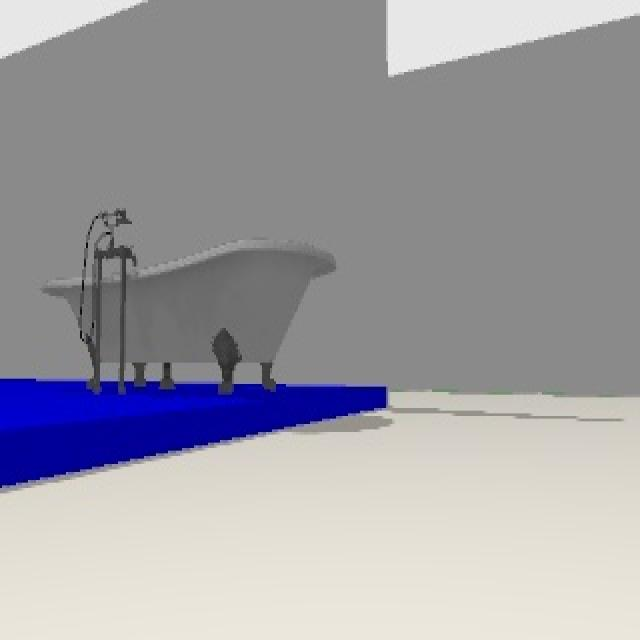bathtub: (37, 198, 336, 398)
